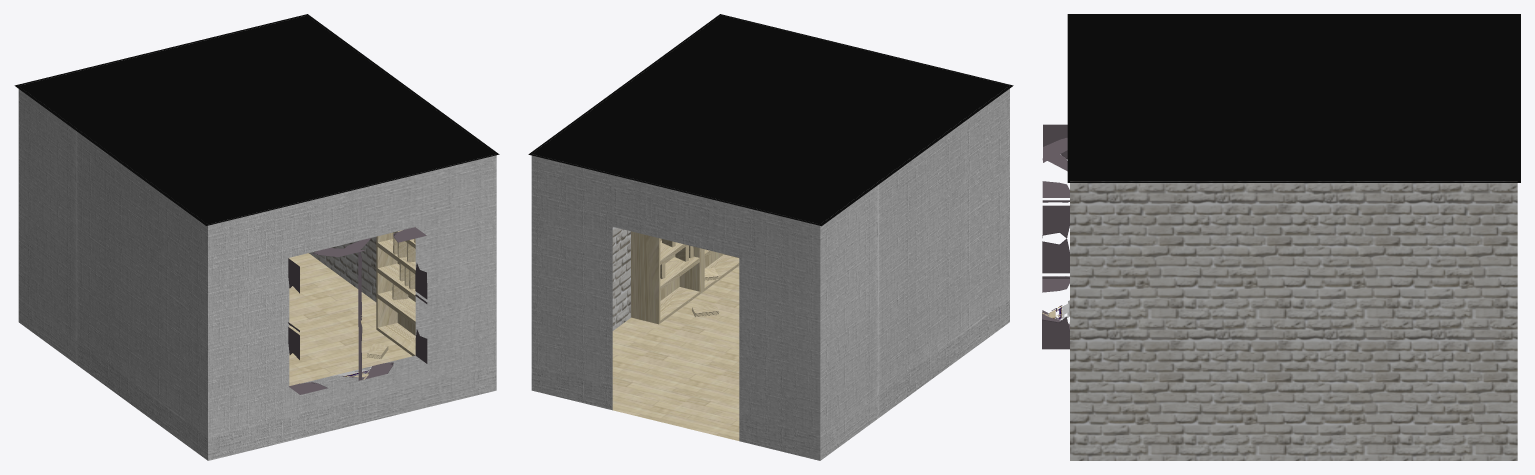
The model's file is RoomGN.obj.
The picture shows the model from 3 angles, left to right: view 1: azimuth 30°, elevation 25°; view 2: azimuth 150°, elevation 25°; view 3: azimuth 270°, elevation 25°; orthographic projection. The views are drawn at different scales.
Parts seen in each view (by area): view 1: Плоскость.035_Плоскость.010, Плоскость.001, Cube.016_Cube.041, Плоскость; view 2: Плоскость.035_Плоскость.010, Плоскость.001, Cube.016_Cube.041; view 3: Плоскость.035_Плоскость.010, Плоскость.001, Плоскость.
Part boxes in pixels (<box>): Плоскость.035_Плоскость.010: <box>18,15,496,460</box>; Плоскость.001: <box>14,14,499,225</box>; Cube.016_Cube.041: <box>366,230,415,359</box>; Плоскость: <box>288,227,427,394</box>; Плоскость.035_Плоскость.010: <box>531,18,1009,460</box>; Плоскость.001: <box>528,14,1013,226</box>; Cube.016_Cube.041: <box>631,231,739,324</box>; Плоскость.035_Плоскость.010: <box>1070,181,1517,460</box>; Плоскость.001: <box>1067,14,1520,182</box>; Плоскость: <box>1042,124,1069,349</box>.
Size of the model in its own units: 6.88 by 5.3 by 8.23.
Materials: 13 (10 with a texture image).
